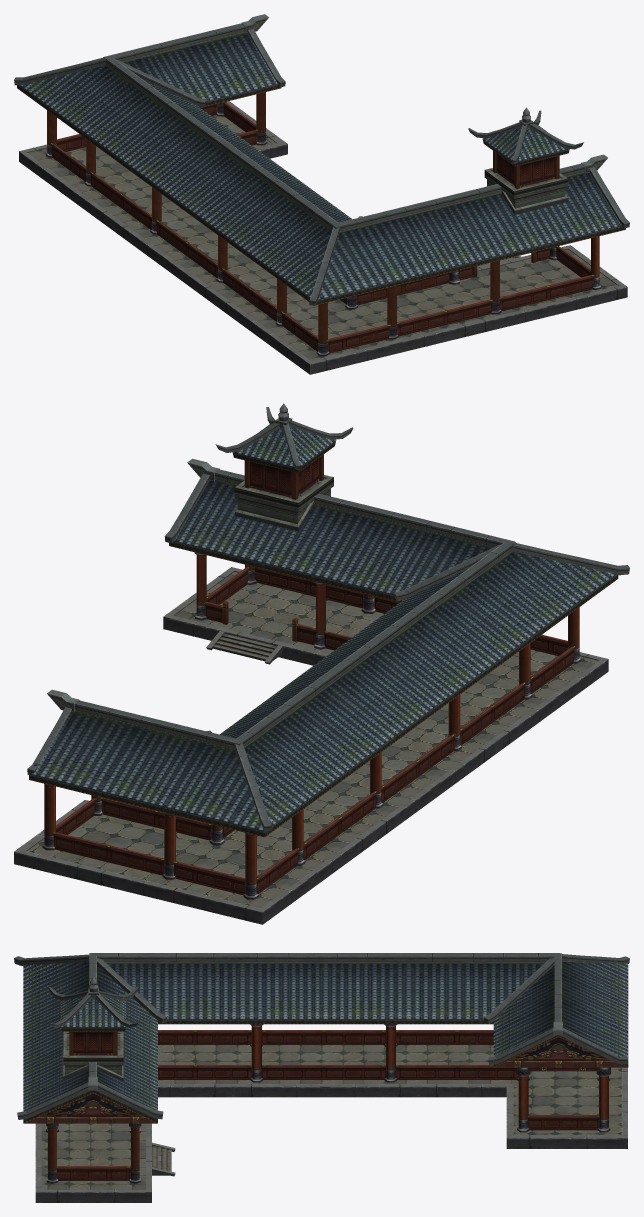
The model's file is HYC_jianzhu_04.FBX.
3 renders of one model, top to bottom at view 1: azimuth 30°, elevation 25°; view 2: azimuth 150°, elevation 25°; view 3: azimuth 270°, elevation 25°, orthographic. The views are drawn at different scales.
Visible parts, largest first — view 1: HYC_jianzhu_04; view 2: HYC_jianzhu_04; view 3: HYC_jianzhu_04.
Part boxes in pixels (box(x1,y1,x2,y2)): HYC_jianzhu_04: box(14, 14, 629, 374); HYC_jianzhu_04: box(14, 403, 629, 924); HYC_jianzhu_04: box(14, 953, 629, 1202).
Bounding box in the file's own units: 2520 × 1349 × 3961.
